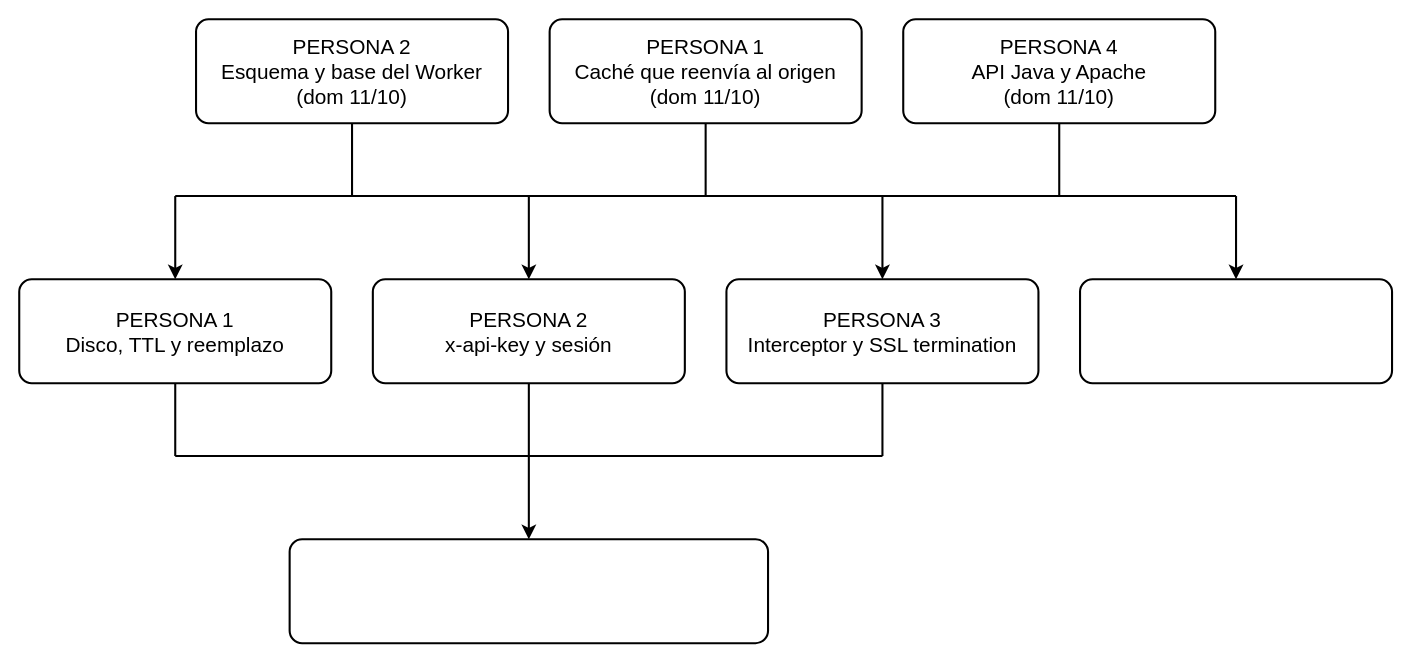
The diagram is 1410 pixels wide and 661 high, and some of its shapes have lost their labels. Each missing label, with the box of its shape:
PERSONA 4 Terraform, Helm y prueba de punta a punta con los cuatro orígenes: (288, 538, 769, 644)
PERSONA 5 UI y verificación TXT: (1078, 278, 1393, 384)
